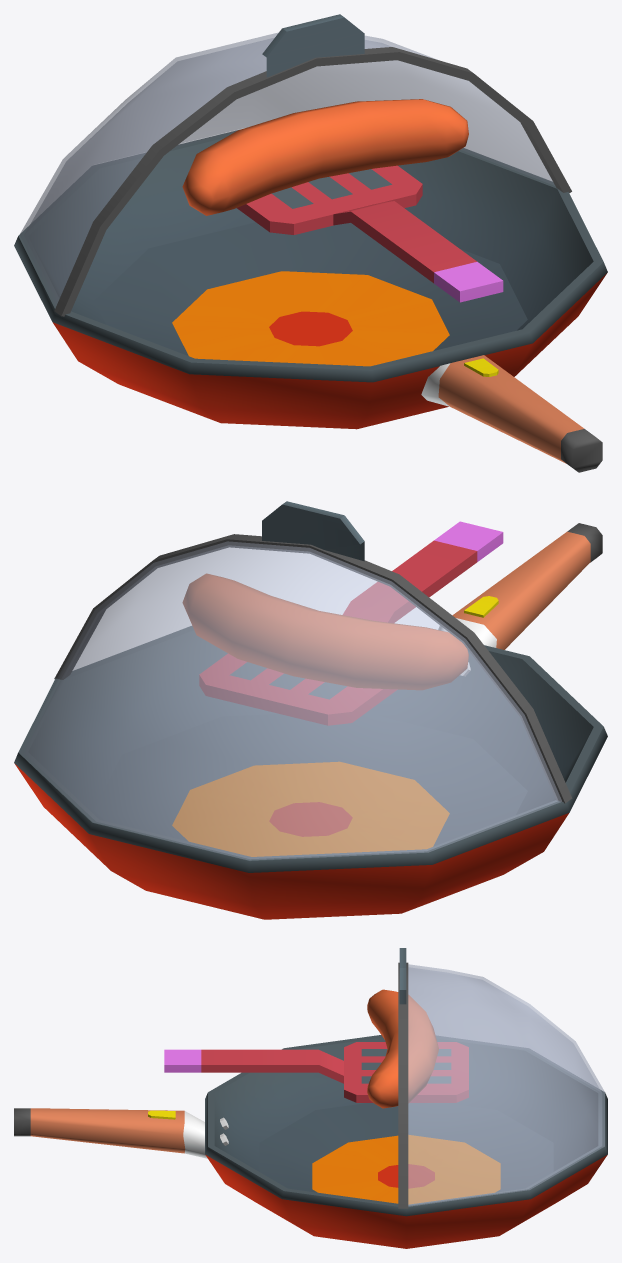
Rendered from Decor_Chaoran.fbx.
The picture shows the model from 3 angles, top to bottom: view 1: azimuth 30°, elevation 25°; view 2: azimuth 150°, elevation 25°; view 3: azimuth 270°, elevation 25°; orthographic projection. The views are drawn at different scales.
Parts seen in each view (by area): view 1: Decor_Chaoran; view 2: Decor_Chaoran; view 3: Decor_Chaoran.
Part boxes in pixels (<box>): Decor_Chaoran: <box>14,14,607,472</box>; Decor_Chaoran: <box>14,501,607,919</box>; Decor_Chaoran: <box>14,948,607,1248</box>.
Bounding box in the file's own units: 106 × 61.67 × 148.
